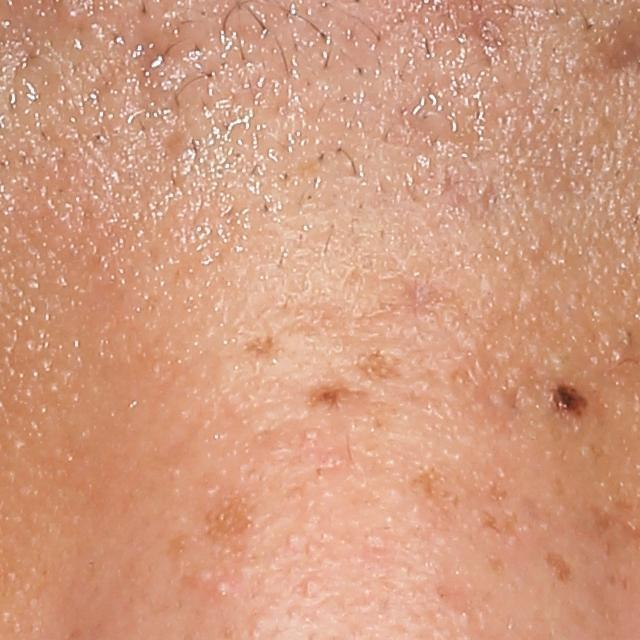atrophic_scar: (450, 327, 543, 448), (225, 318, 286, 381)
comedo: (212, 581, 243, 598), (298, 427, 325, 446), (305, 578, 326, 598)
melasma: (474, 491, 538, 577), (407, 461, 471, 517), (204, 488, 259, 544), (545, 549, 581, 584)
nevus: (550, 384, 588, 424)
